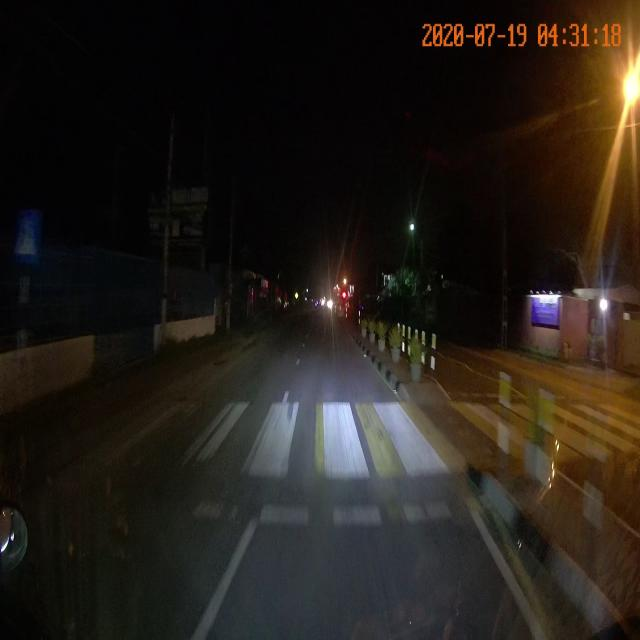Crosswalk: (136, 392, 637, 526)
